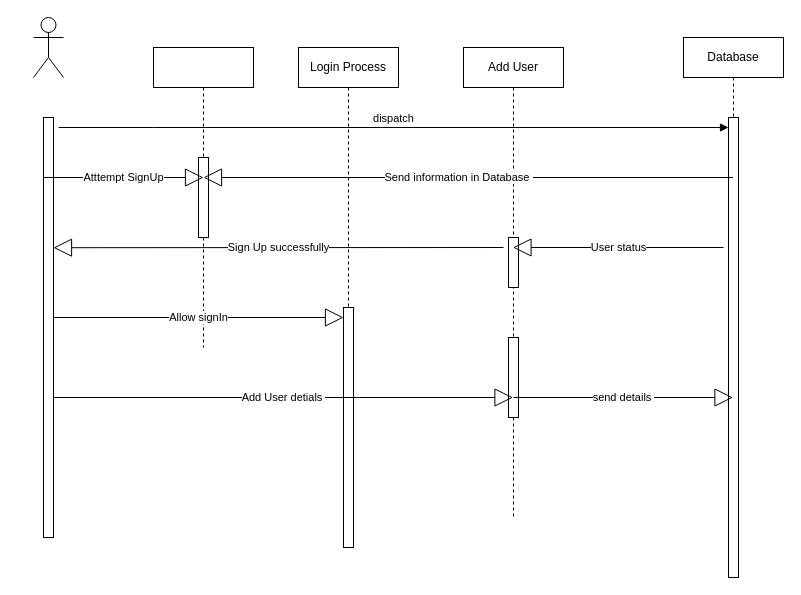
The diagram is 801 pixels wide and 595 high, and some of its shapes have lost their labels. The centre of each missing label's shape, as x and y in pixels:
"Sign Up" belongs at (x=203, y=197).
"User/Admin Owner" belongs at (x=48, y=47).
